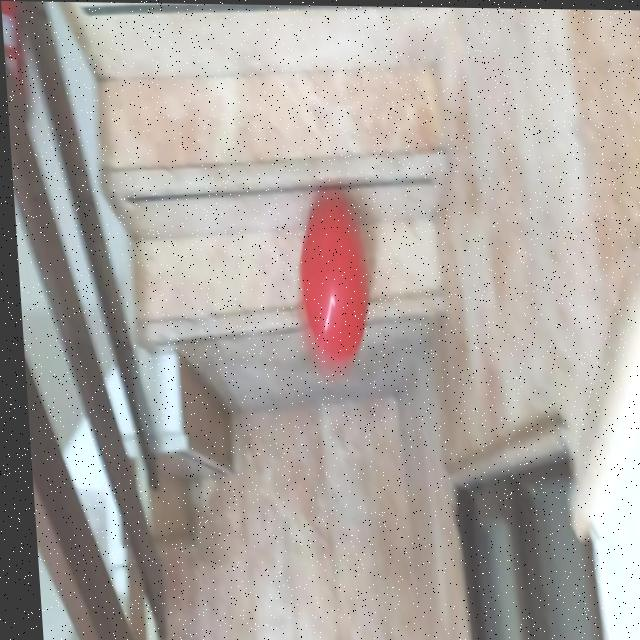balloon: (288, 173, 377, 404)
